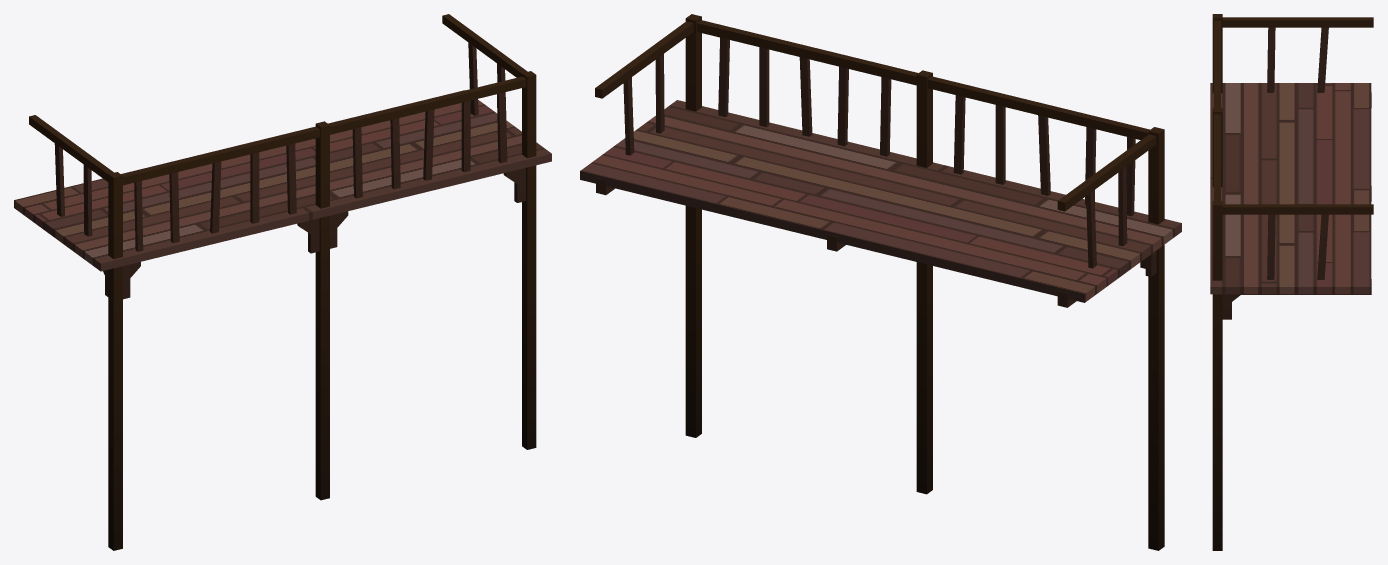
The model's file is Deck 6M v06.glb.
3 renders of one model, left to right at view 1: azimuth 30°, elevation 25°; view 2: azimuth 150°, elevation 25°; view 3: azimuth 270°, elevation 25°, orthographic. The views are drawn at different scales.
Parts seen in each view (by area): view 1: Deck 6M v06; view 2: Deck 6M v06; view 3: Deck 6M v06.
Boxes of the visible parts, <box> form: Deck 6M v06: <box>14,14,551,550</box>; Deck 6M v06: <box>580,14,1181,550</box>; Deck 6M v06: <box>1210,14,1373,550</box>.
Size of what is drawn, in the model's own units: 6 by 4.74 by 2.03.
2 materials, 2 textured.
